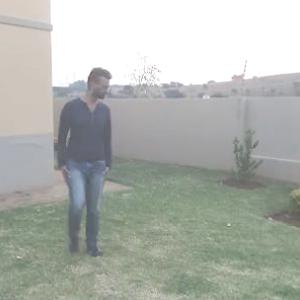follow: (54, 56, 128, 274)
